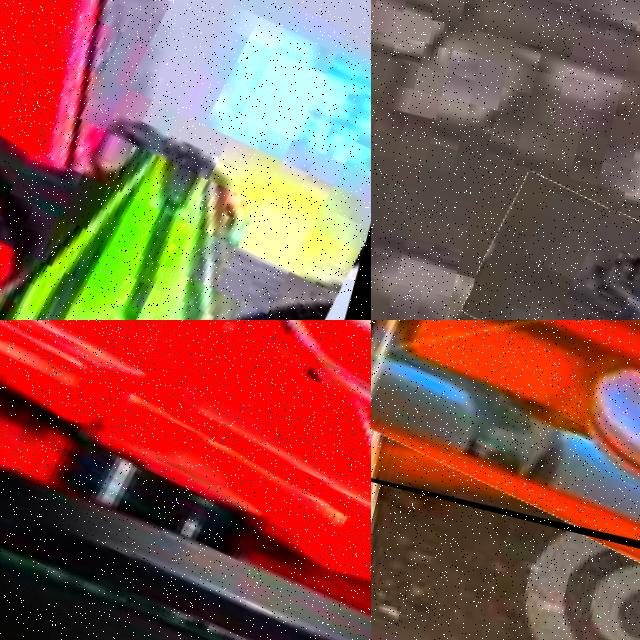0: (0, 0, 371, 320), (456, 181, 640, 320)
drone: (0, 320, 371, 640), (371, 320, 640, 580)
